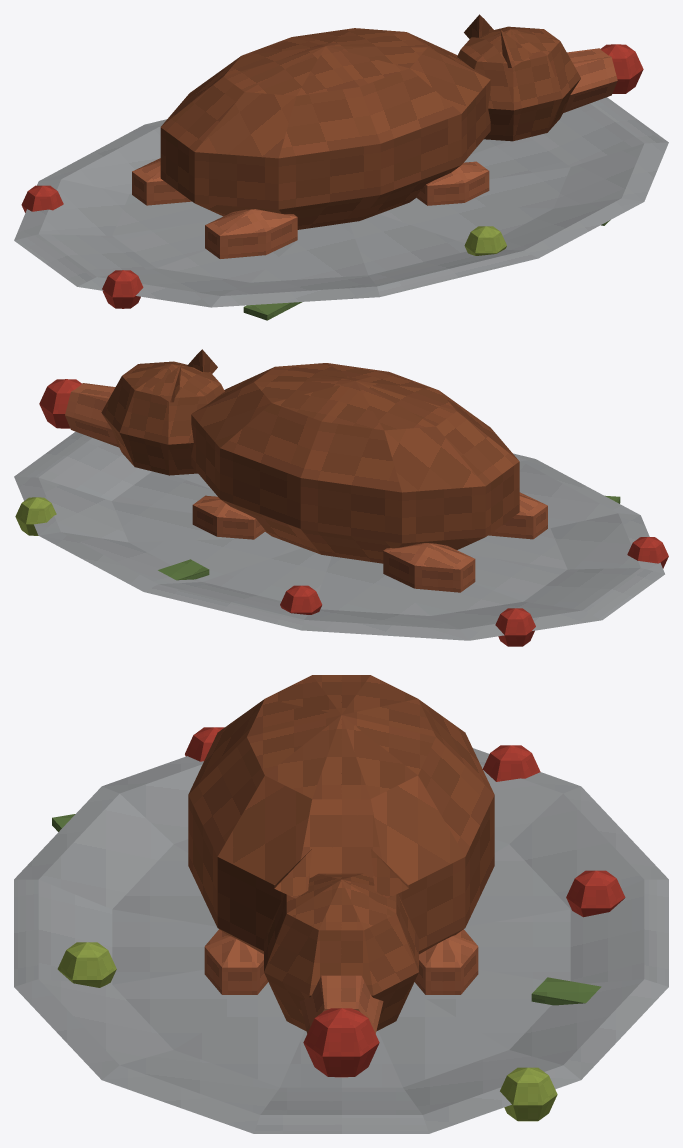
File: roasted-boar-platter.glb
3 views of the same model, one above another, from view 1: azimuth 30°, elevation 25°; view 2: azimuth 150°, elevation 25°; view 3: azimuth 270°, elevation 25° (orthographic). The views are drawn at different scales.
Parts seen in each view (by area): view 1: roasted-boar-platter.001; view 2: roasted-boar-platter.001; view 3: roasted-boar-platter.001.
Boxes of the visible parts, left/top/right/bottom form: roasted-boar-platter.001: left=14, top=14, right=668, bottom=320; roasted-boar-platter.001: left=14, top=349, right=668, bottom=646; roasted-boar-platter.001: left=14, top=675, right=668, bottom=1133.
Size of the model in its own units: 1.12 by 0.305 by 0.7727.
1 material, 1 textured.
